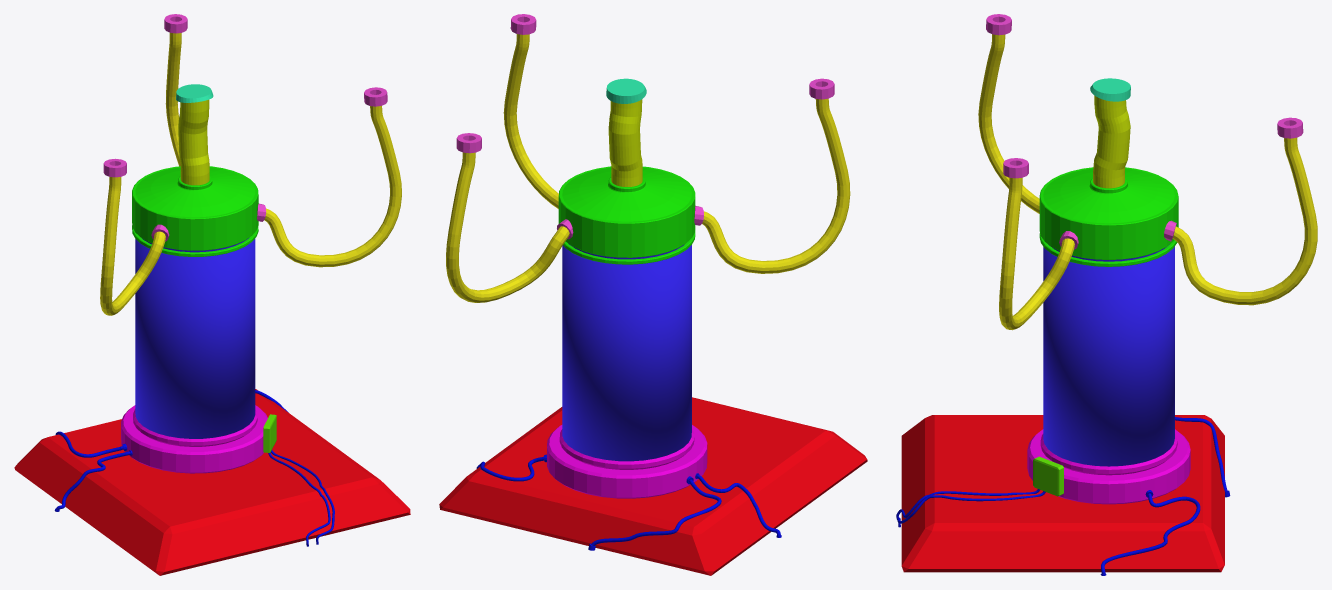
File: miniboss altar 2.fbx
3 renders of one model, left to right at view 1: azimuth 30°, elevation 25°; view 2: azimuth 150°, elevation 25°; view 3: azimuth 270°, elevation 25°, orthographic. The views are drawn at different scales.
Parts seen in each view (by area): view 1: MINI BOSS BASE, Cylinder.002, Cylinder.001, BezierCurve.006, Cylinder, Cylinder.004, BezierCurve.002, BezierCurve.001, Cylinder.003; view 2: MINI BOSS BASE, Cylinder.002, Cylinder.001, BezierCurve.006, Cylinder, Cylinder.004, BezierCurve.002, BezierCurve.001, Cylinder.003; view 3: MINI BOSS BASE, Cylinder.002, Cylinder.001, BezierCurve.006, Cylinder, Cylinder.004, BezierCurve.002, BezierCurve.001, Cube.001, Cylinder.003.
Part boxes in pixels (bbox=[...]): MINI BOSS BASE: bbox=[14, 389, 410, 575]; Cylinder.002: bbox=[135, 237, 255, 438]; Cylinder.001: bbox=[132, 166, 258, 256]; BezierCurve.006: bbox=[100, 33, 401, 315]; Cylinder: bbox=[121, 405, 267, 473]; Cylinder.004: bbox=[178, 99, 209, 185]; BezierCurve.002: bbox=[54, 390, 334, 546]; BezierCurve.001: bbox=[103, 14, 387, 241]; Cylinder.003: bbox=[176, 84, 213, 102]; MINI BOSS BASE: bbox=[439, 397, 867, 575]; Cylinder.002: bbox=[562, 243, 691, 461]; Cylinder.001: bbox=[558, 166, 695, 264]; BezierCurve.006: bbox=[446, 34, 850, 302]; Cylinder: bbox=[547, 425, 707, 498]; Cylinder.004: bbox=[608, 99, 642, 186]; BezierCurve.002: bbox=[476, 454, 781, 550]; BezierCurve.001: bbox=[456, 14, 834, 239]; Cylinder.003: bbox=[606, 78, 646, 103]; MINI BOSS BASE: bbox=[901, 415, 1224, 572]; Cylinder.002: bbox=[1043, 244, 1174, 466]; Cylinder.001: bbox=[1039, 167, 1178, 266]; BezierCurve.006: bbox=[978, 34, 1317, 330]; Cylinder: bbox=[1027, 429, 1190, 504]; Cylinder.004: bbox=[1093, 95, 1130, 188]; BezierCurve.002: bbox=[896, 417, 1230, 575]; BezierCurve.001: bbox=[986, 14, 1303, 249]; Cube.001: bbox=[1033, 456, 1063, 496]; Cylinder.003: bbox=[1090, 78, 1130, 101].
Size of the model in its own units: 594 by 715 by 640.
